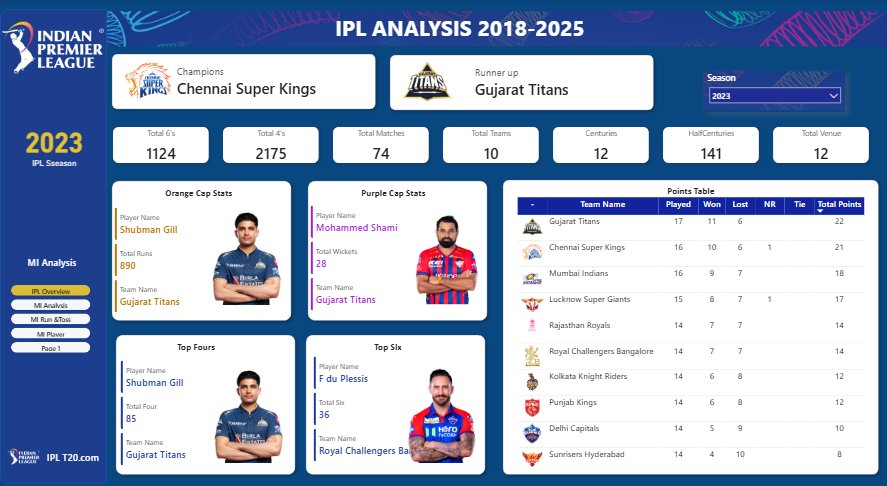

The page's visual inventory and layout, read from the dashboard file:
{"tool":"powerbi","page":{"name":"IPL Overview","canvas":[2000,1100],"ordinal":0},"visuals":[{"type":"image","box":[239.6,24.7,1759.5,89],"z":0,"group":"g9"},{"type":"group","id":"g1","title":"champion","box":[239.6,109.5,613.9,152.9],"z":0},{"type":"shape","box":[239.6,114.1,613.9,146.1],"z":0,"group":"g1"},{"type":"shape","box":[864.9,116.3,613.9,146.1],"z":0,"group":"g7"},{"type":"image","box":[1578.8,139.5,320,133.5],"z":0,"group":"g2"},{"type":"shape","box":[1118.8,397.9,865.2,683.6],"z":0,"group":"g8"},{"type":"shape","box":[239.6,399.4,424.5,335.5],"z":0,"group":"g3"},{"type":"shape","box":[680.1,399.4,424.5,335.5],"z":0,"group":"g5"},{"type":"shape","box":[248.3,745,424.5,335.5],"z":0,"group":"g4"},{"type":"shape","box":[675.6,745,424.5,335.5],"z":0,"group":"g6"},{"type":"shape","box":[0,25,239.6,1065.8],"z":1000,"group":"g9"},{"type":"cardVisual","fields":{"Data":["ball_by_ball_data.Season winnner Logo"]},"box":[239.6,109.5,184.9,152.9],"z":1000,"group":"g1"},{"type":"cardVisual","fields":{"Data":["ipl_matches_data.Season Winner"]},"box":[367.4,123.2,499.8,125.5],"z":1000},{"type":"cardVisual","fields":{"Data":["ipl_matches_data.Season Runner"]},"box":[1038.3,125.5,401.7,125.5],"z":1000,"group":"g7"},{"type":"slicer","title":"Season","fields":{"Values":["ipl_matches_data.season"]},"box":[1582.2,163.1,314.9,91.3],"z":1000,"group":"g2"},{"type":"tableEx","fields":{"Values":["teams_data.image_url","teams_data.team_name","ipl_matches_data.Matches Played","ipl_matches_data.Matches Won","ipl_matches_data.Matches Lost","ipl_matches_data.No Results Matches","ipl_matches_data.Tied Matches","ipl_matches_data.Total Points"]},"box":[1156.2,443.3,790.4,656.9],"z":1000,"group":"g8"},{"type":"cardVisual","fields":{"Data":["ipl_matches_data.Purple Cap Holder","ipl_matches_data.Purple Cap Wicket Count","ipl_matches_data.PurpleCapTeam"]},"box":[680.1,449.6,358.3,271.6],"z":1000,"group":"g5"},{"type":"cardVisual","fields":{"Data":["ipl_matches_data.Orange Cap Holder","ipl_matches_data.Orange Cap Runs","ipl_matches_data.Orange Cap Holder Team Name"]},"box":[239.6,454.2,299,271.6],"z":1000,"group":"g3"},{"type":"cardVisual","fields":{"Data":["ipl_matches_data.Top Six Player Name","ipl_matches_data.Top Six Count","ipl_matches_data.Top Six Player Team Name"]},"box":[687,788.4,358.3,271.6],"z":1000,"group":"g6"},{"type":"cardVisual","fields":{"Data":["ipl_matches_data.Top Four Player Name","ipl_matches_data.Top Four Count","ipl_matches_data.Top Four Player Team Name"]},"box":[252.9,797.5,358.3,271.6],"z":1000,"group":"g4"},{"type":"image","box":[0,28.1,232.8,164.3],"z":2000,"group":"g2"},{"type":"textbox","box":[748.5,29.3,709.8,86.7],"z":2000,"group":"g9"},{"type":"cardVisual","fields":{"Data":["ipl_matches_data.Season Runner Logo"]},"box":[867.2,109.5,184.9,155.2],"z":2000,"group":"g7"},{"type":"cardVisual","fields":{"Data":["ipl_matches_data.Total 6's","ipl_matches_data.Total 4's","ipl_matches_data.Total Matches","ipl_matches_data.Total Teams","ipl_matches_data.Centuries","ipl_matches_data.HalfCenturies","ipl_matches_data.Total Venue"]},"box":[223.7,260.2,1759.5,139.2],"z":2000},{"type":"textbox","box":[1493.1,417,170.9,42.7],"z":2000,"group":"g8"},{"type":"textbox","box":[364.8,420,170.6,44.6],"z":2000,"group":"g3"},{"type":"cardVisual","fields":{"Data":["ipl_matches_data.PurpleCapImage"]},"box":[860.4,440.5,289.8,285.3],"z":2000,"group":"g5"},{"type":"textbox","box":[391.9,766.1,170.6,44.6],"z":2000,"group":"g4"},{"type":"textbox","box":[834.7,766.1,170.6,44.6],"z":2000,"group":"g6"},{"type":"group","id":"g2","title":"slicer","box":[0,28.1,1898.8,244.9],"z":3000,"group":"g9"},{"type":"image","box":[591.1,415.4,54.8,54.8],"z":3000},{"type":"textbox","box":[805.8,420,173.2,44.6],"z":3000,"group":"g5"},{"type":"cardVisual","fields":{"Data":["ipl_matches_data.Orange Cap Image"]},"box":[429,454.2,251,251],"z":3000,"group":"g3"},{"type":"cardVisual","fields":{"Data":["ipl_matches_data.Orange Cap Image"]},"box":[433.2,808.9,251,251],"z":3000,"group":"g4"},{"type":"cardVisual","fields":{"Data":["ipl_matches_data.Top Six Player Image"]},"box":[867.3,808.9,251,251],"z":3000,"group":"g6"},{"type":"pageNavigator","box":[25.1,643.5,178,156],"z":3125,"group":"g9"},{"type":"actionButton","box":[51.6,573.1,130.2,40.4],"z":3250,"group":"g9"},{"type":"actionButton","box":[98.2,1010.2,130.1,41.1],"z":3500,"group":"g10"},{"type":"cardVisual","fields":{"Data":["ipl_matches_data.IPL Sseason"]},"box":[18,265.6,208.8,141.4],"z":4000,"group":"g9"},{"type":"actionButton","box":[93.6,481.5,130.1,41.1],"z":4000},{"type":"image","box":[1033.8,415.4,54,54],"z":5000},{"type":"image","box":[16,998.4,73,61.6],"z":5000,"group":"g10"},{"type":"group","id":"g3","title":"orange cap","box":[239.6,399.4,440.5,335.5],"z":6000},{"type":"group","id":"g4","title":"top fours","box":[248.3,745,435.2,336.4],"z":7000},{"type":"group","id":"g5","title":"purlple cap","box":[680.1,399.4,470.1,335.5],"z":8000},{"type":"group","id":"g6","title":"top six","box":[675.6,745,443.3,336.4],"z":9000},{"type":"group","id":"g7","title":"runnerup","box":[864.9,109.5,613.9,155.2],"z":10000},{"type":"group","id":"g8","title":"points table","box":[1118.8,397.9,865.2,702.3],"z":11000},{"type":"group","id":"g9","title":"top img","box":[0,24.7,1999.2,1066.1],"z":12000},{"type":"group","id":"g10","title":"Group 1","box":[16,998.4,210.9,61.4],"z":12001,"group":"g9"}]}

Visuals, with their boxes in screenshot pixels (x1, y1, x2, y2), scaled from the page's 2000x1100 canvas onto the 887x486 screenshot:
image: (left=106, top=11, right=886, bottom=50)
"champion" group: (left=106, top=48, right=379, bottom=116)
shape: (left=106, top=50, right=379, bottom=115)
shape: (left=384, top=51, right=656, bottom=116)
image: (left=700, top=62, right=842, bottom=121)
shape: (left=496, top=176, right=880, bottom=478)
shape: (left=106, top=176, right=295, bottom=325)
shape: (left=302, top=176, right=490, bottom=325)
shape: (left=110, top=329, right=298, bottom=477)
shape: (left=300, top=329, right=488, bottom=477)
shape: (left=0, top=11, right=106, bottom=482)
cardVisual - ball_by_ball_data.Season winnner Logo: (left=106, top=48, right=188, bottom=116)
cardVisual - ipl_matches_data.Season Winner: (left=163, top=54, right=385, bottom=110)
cardVisual - ipl_matches_data.Season Runner: (left=460, top=55, right=639, bottom=111)
"Season" slicer: (left=702, top=72, right=841, bottom=112)
tableEx - teams_data.image_url x teams_data.team_name: (left=513, top=196, right=863, bottom=485)
cardVisual - ipl_matches_data.Purple Cap Holder x ipl_matches_data.Purple Cap Wicket Count: (left=302, top=199, right=461, bottom=319)
cardVisual - ipl_matches_data.Orange Cap Holder x ipl_matches_data.Orange Cap Runs: (left=106, top=201, right=239, bottom=321)
cardVisual - ipl_matches_data.Top Six Player Name x ipl_matches_data.Top Six Count: (left=305, top=348, right=464, bottom=468)
cardVisual - ipl_matches_data.Top Four Player Name x ipl_matches_data.Top Four Count: (left=112, top=352, right=271, bottom=472)
image: (left=0, top=12, right=103, bottom=85)
textbox: (left=332, top=13, right=647, bottom=51)
cardVisual - ipl_matches_data.Season Runner Logo: (left=385, top=48, right=467, bottom=117)
cardVisual - ipl_matches_data.Total 6's x ipl_matches_data.Total 4's: (left=99, top=115, right=880, bottom=176)
textbox: (left=662, top=184, right=738, bottom=203)
textbox: (left=162, top=186, right=237, bottom=205)
cardVisual - ipl_matches_data.PurpleCapImage: (left=382, top=195, right=510, bottom=321)
textbox: (left=174, top=338, right=249, bottom=358)
textbox: (left=370, top=338, right=446, bottom=358)
"slicer" group: (left=0, top=12, right=842, bottom=121)
image: (left=262, top=184, right=286, bottom=208)
textbox: (left=357, top=186, right=434, bottom=205)
cardVisual - ipl_matches_data.Orange Cap Image: (left=190, top=201, right=302, bottom=312)
cardVisual - ipl_matches_data.Orange Cap Image: (left=192, top=357, right=303, bottom=468)
cardVisual - ipl_matches_data.Top Six Player Image: (left=385, top=357, right=496, bottom=468)
pageNavigator: (left=11, top=284, right=90, bottom=353)
actionButton: (left=23, top=253, right=81, bottom=271)
actionButton: (left=44, top=446, right=101, bottom=464)
cardVisual - ipl_matches_data.IPL Sseason: (left=8, top=117, right=101, bottom=180)
actionButton: (left=42, top=213, right=99, bottom=231)
image: (left=458, top=184, right=482, bottom=207)
image: (left=7, top=441, right=39, bottom=468)
"orange cap" group: (left=106, top=176, right=302, bottom=325)
"top fours" group: (left=110, top=329, right=303, bottom=478)
"purlple cap" group: (left=302, top=176, right=510, bottom=325)
"top six" group: (left=300, top=329, right=496, bottom=478)
"runnerup" group: (left=384, top=48, right=656, bottom=117)
"points table" group: (left=496, top=176, right=880, bottom=485)
"top img" group: (left=0, top=11, right=886, bottom=482)
"Group 1" group: (left=7, top=441, right=101, bottom=468)
